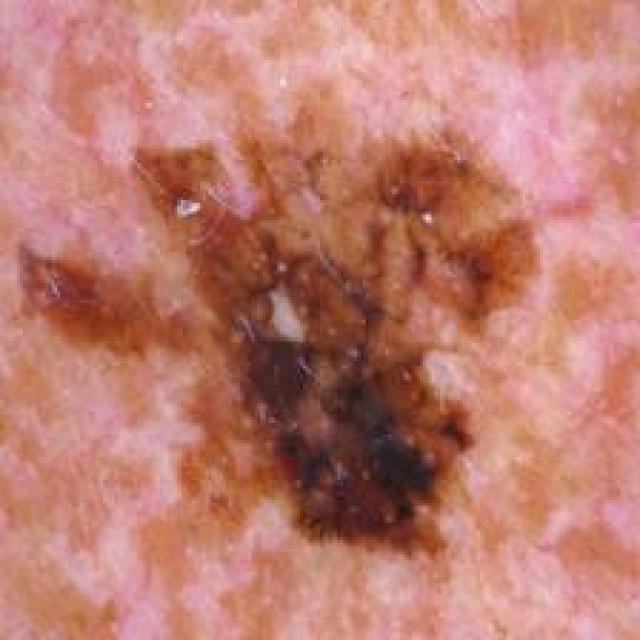Cancer: (126, 107, 543, 547)
